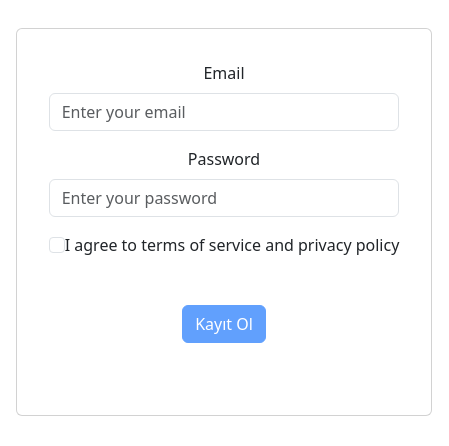
Login Page › Error Messages › email input throws error for invalid email
Type "go" into the field with test id "email-input" at (225, 112), box x1=49 y1=93 x2=400 y2=131
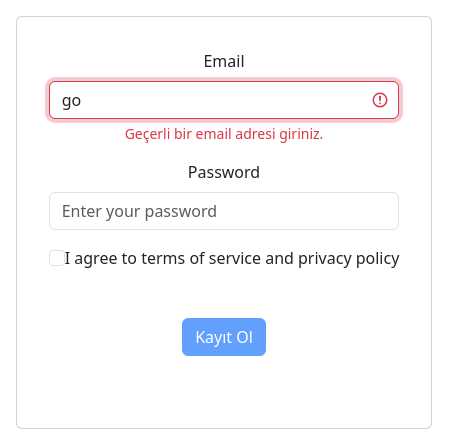
Expected: the text "Geçerli bir email adresi giriniz." is shown, x1=125 y1=124 x2=323 y2=142
